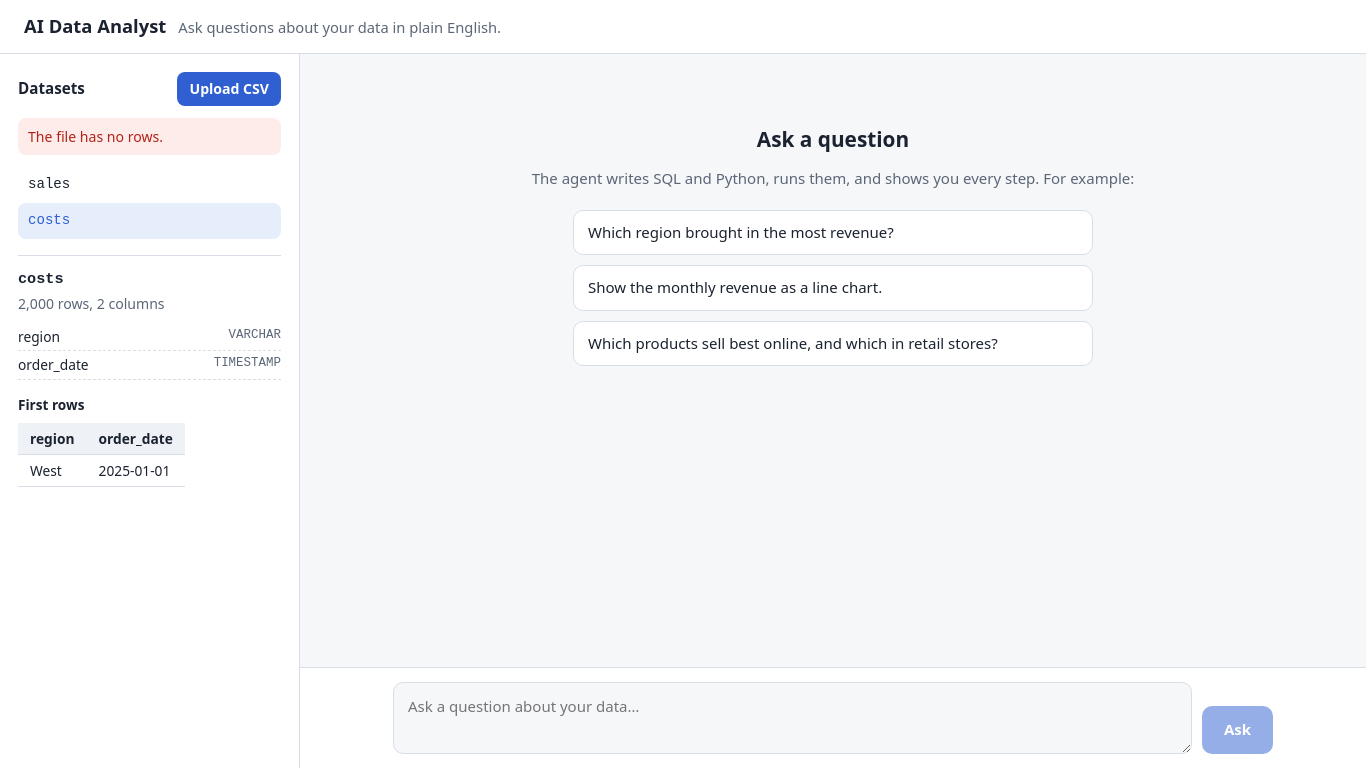
Test: DatasetPanel › still opens a dataset clicked before an upload that fails
The width and height of the screenshot is (1366, 768).
Earlier steps of the test are not shown.
Expected: the element named "Details of costs" is shown, [18, 255, 281, 487]
Expected: the message reads "The file has no rows.", [28, 127, 163, 146]
Click the button "costs" at (49, 220), box [18, 203, 281, 239]
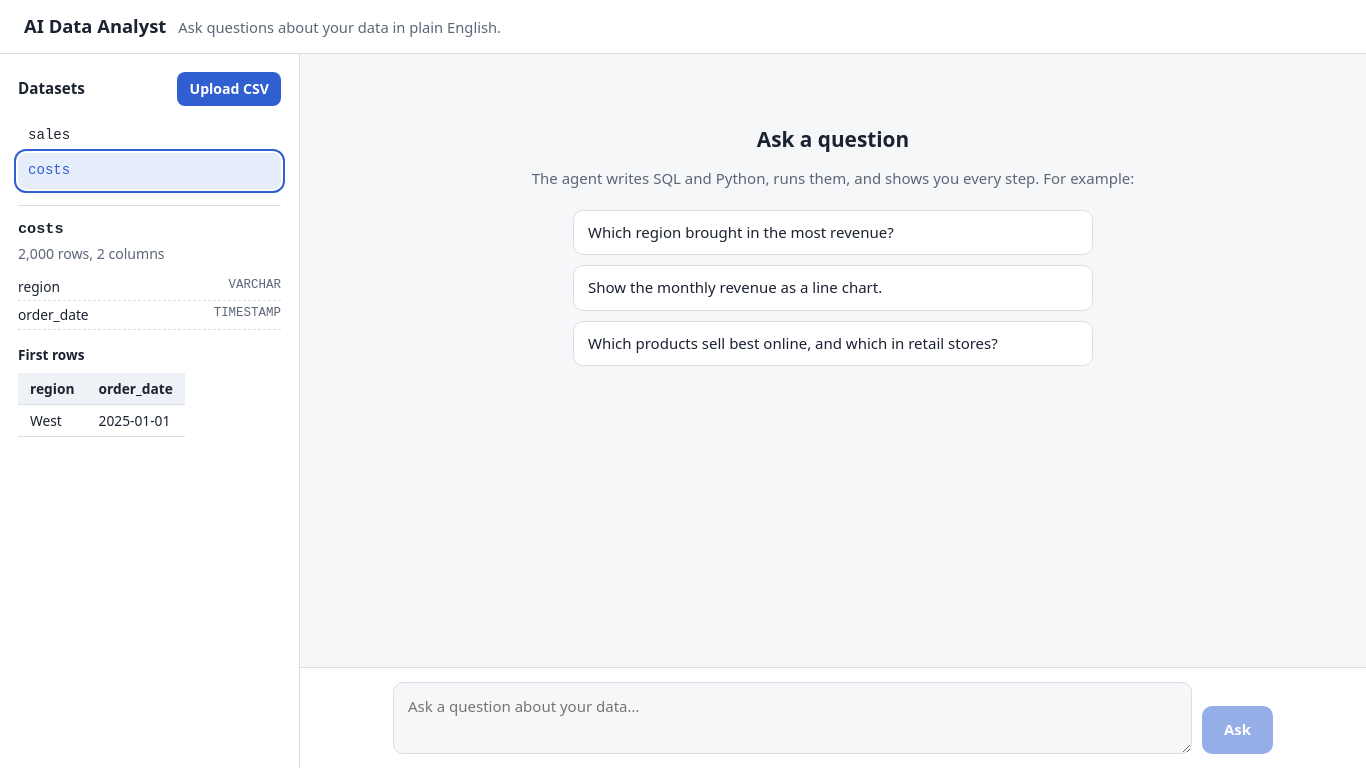
Now the message "The file has no rows." is gone
